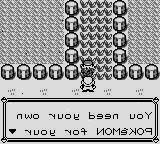captura: (79, 0, 113, 80)
main: (81, 60, 95, 77)
no-caminable: (1, 1, 79, 79), (113, 0, 160, 79)
npc: (80, 76, 96, 92)
texto: (2, 97, 160, 142)
